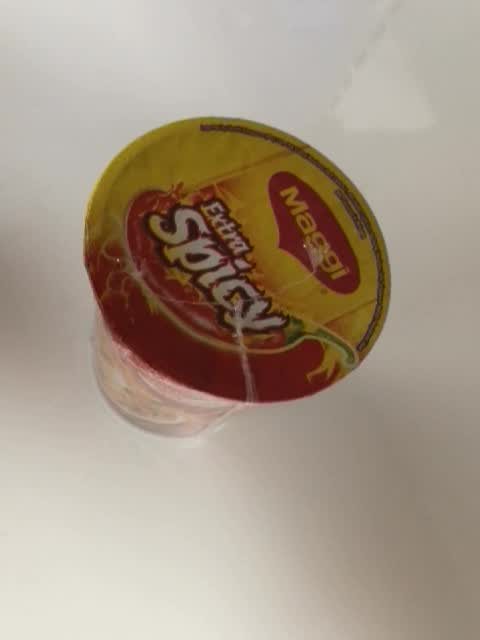maggi: (83, 116, 391, 439)
